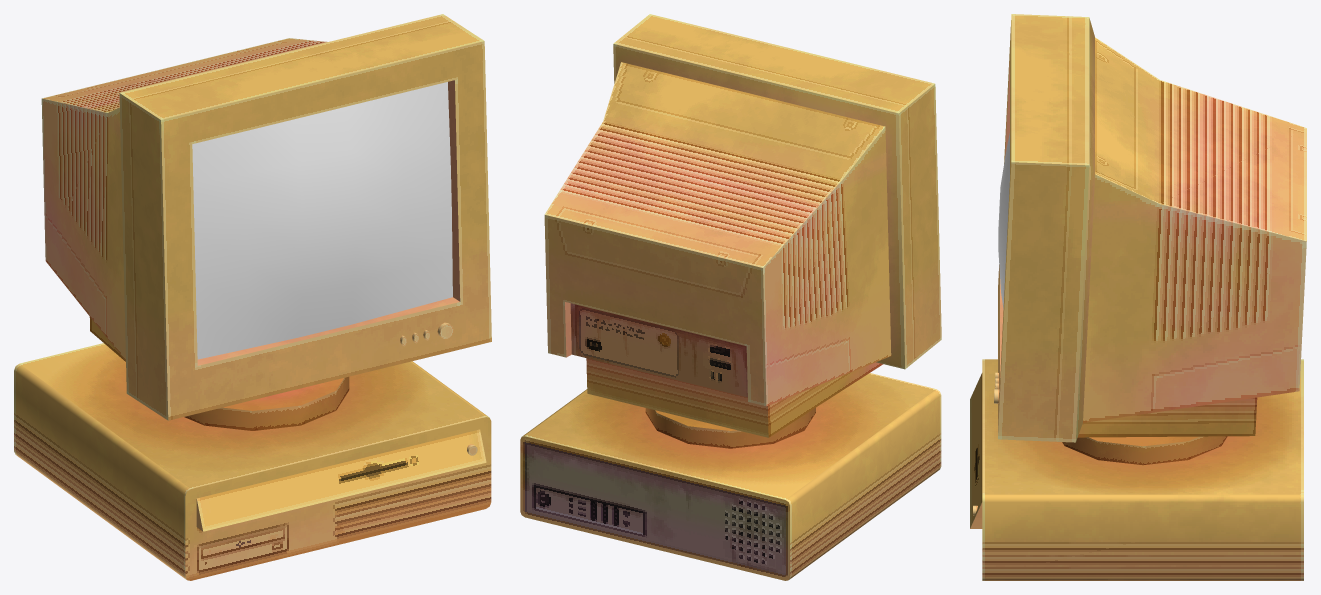
Rendered from computer.glb.
The picture shows the model from 3 angles, left to right: view 1: azimuth 30°, elevation 25°; view 2: azimuth 150°, elevation 25°; view 3: azimuth 270°, elevation 25°; orthographic projection. The views are drawn at different scales.
Visible parts, largest first — view 1: Monitor, Chassis, Screen; view 2: Monitor, Chassis; view 3: Monitor, Chassis, Screen.
Boxes of the visible parts, x1,y1,x2,y2 form: Monitor: (41, 14, 491, 420); Chassis: (14, 343, 491, 580); Screen: (192, 82, 452, 359); Monitor: (544, 14, 941, 437); Chassis: (520, 373, 941, 580); Monitor: (994, 14, 1306, 442); Chassis: (970, 359, 1303, 580); Screen: (998, 133, 1009, 309).
Size of the model in its own units: 2.47 by 3.3 by 2.37.
2 materials, 1 textured.
